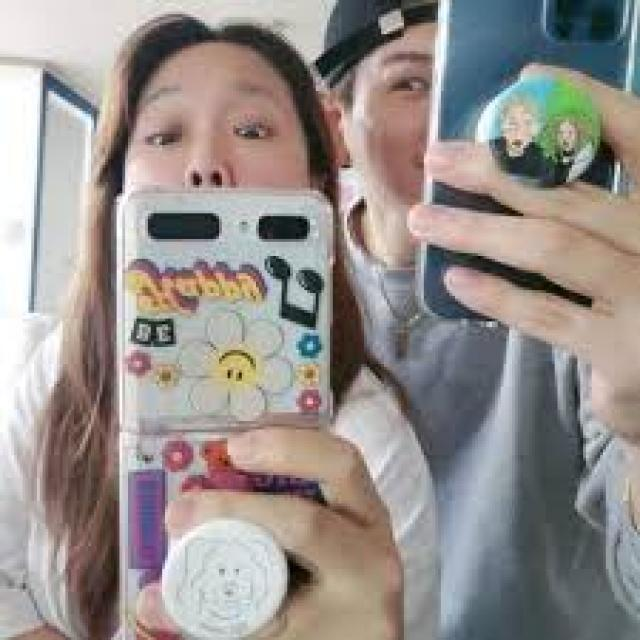phone: (113, 190, 339, 638), (414, 2, 620, 327)
